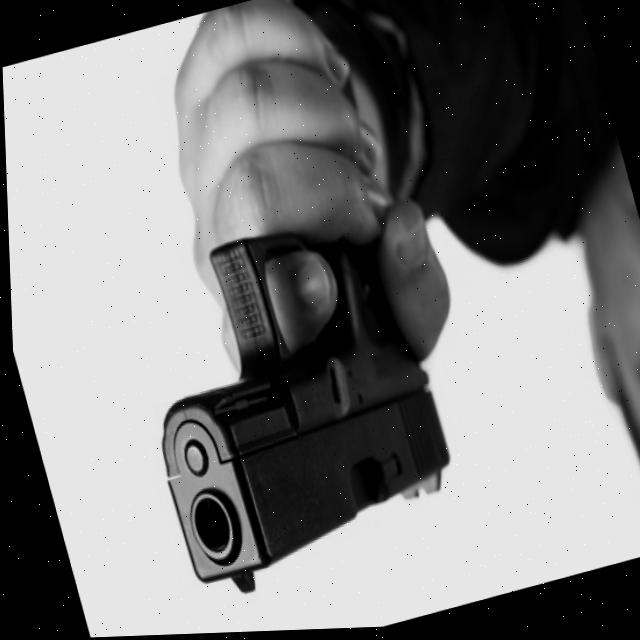pistol: (104, 198, 469, 614)
